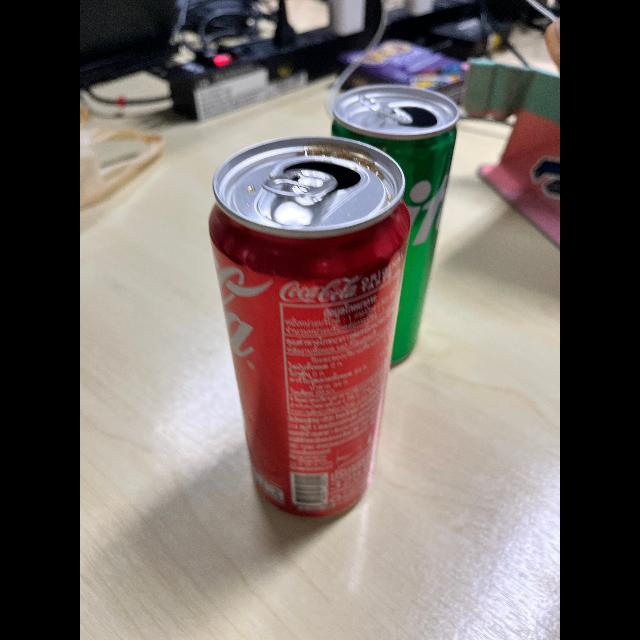can: (206, 140, 402, 528), (332, 77, 462, 373)
